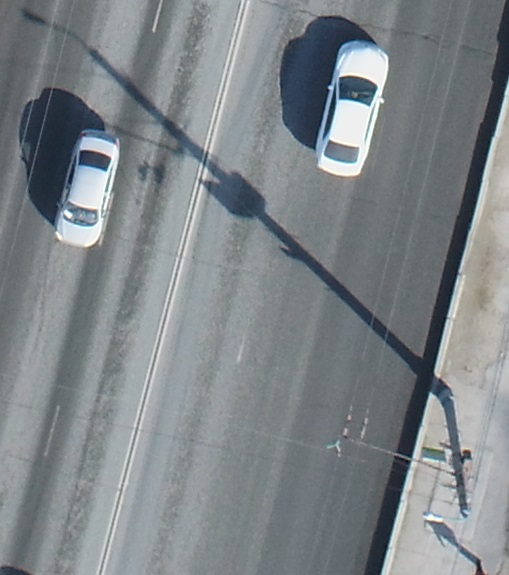opora: (373, 314, 480, 531)
